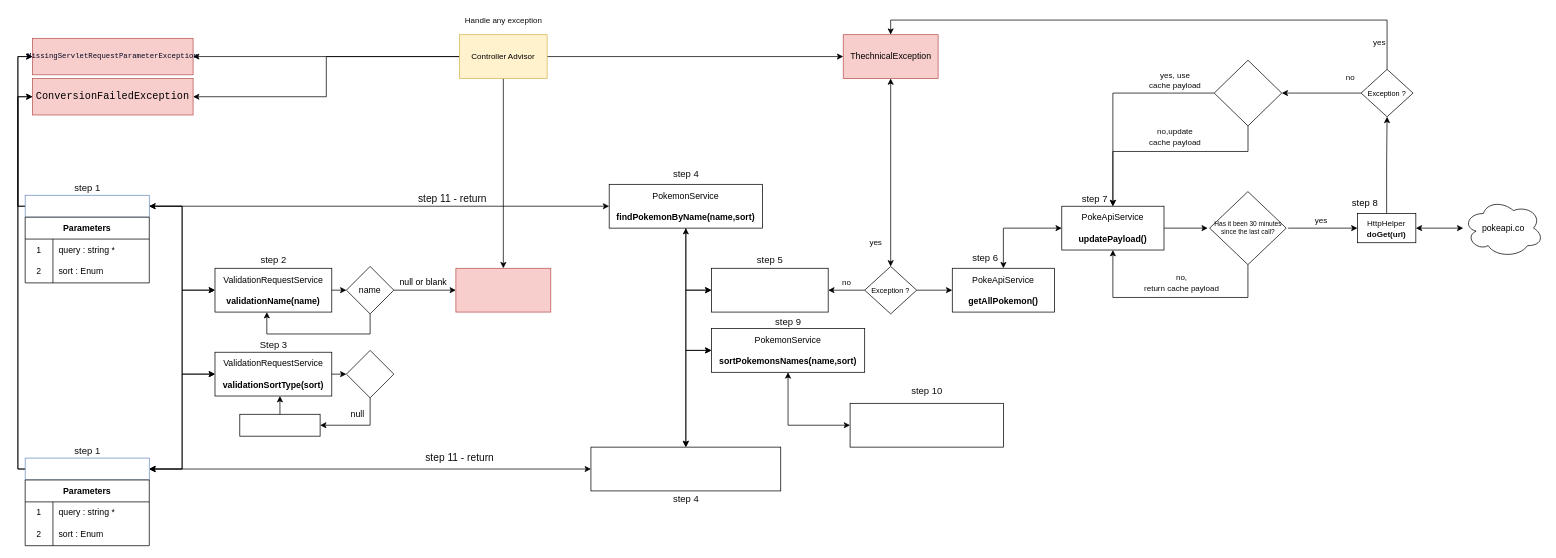
This 1556x558 diagram has some shape labels left out. Here are the shapes that lost their labels. From the top down, the centre of each, then its label:
At (1247,92): "Wrong response?".
At (86,206): "/pokemon_api/pokemon".
At (503,290): "BusinessException".
At (769,290): "PokemonService getPokemons(name)".
At (370,374): "sort".
At (279,425): "Set Alphabetical".
At (926,425): "SortUtils sort(words,sort)".
At (86,468): "/pokemon_api/pokemon/highlight".
At (685,468): "PokemonService findPokemonByNameHighLight(name,sort)".
